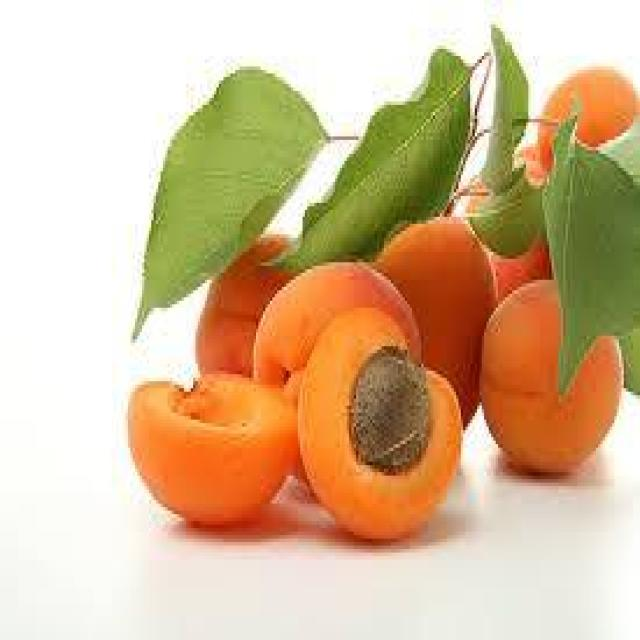cekirdek: (345, 341, 438, 485)
kayisi: (289, 293, 466, 552), (473, 274, 635, 483), (118, 366, 305, 536)
yaprak: (123, 58, 329, 349), (259, 40, 476, 284), (534, 95, 640, 404)
